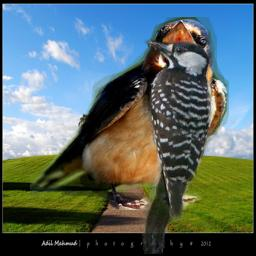Swallow: (30, 17, 229, 210)
Woodpecker: (140, 35, 216, 254)
